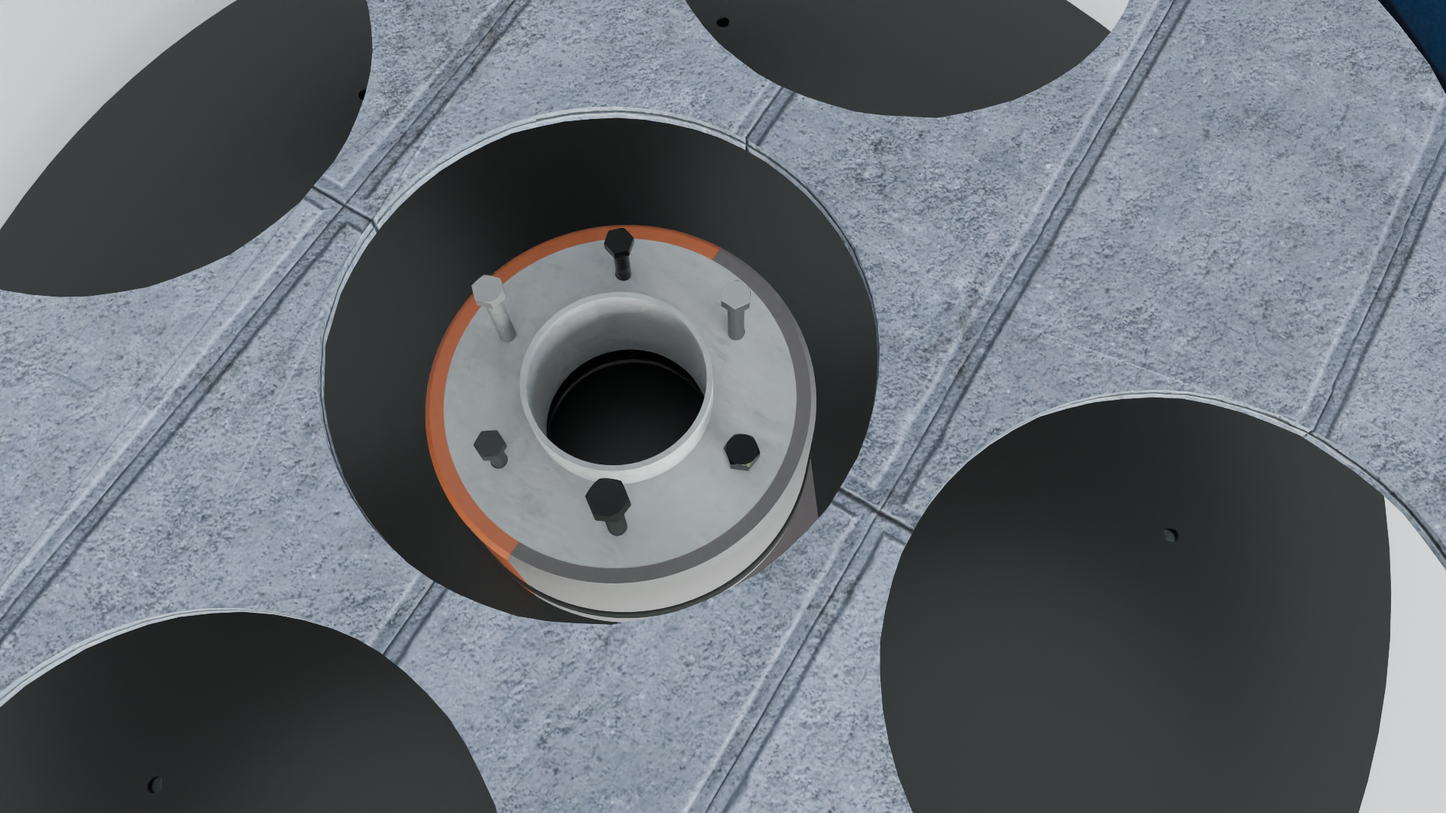bolt: (585, 478, 630, 519), (724, 434, 760, 467), (471, 275, 504, 304), (721, 280, 751, 310), (474, 430, 505, 458), (604, 228, 633, 254)
